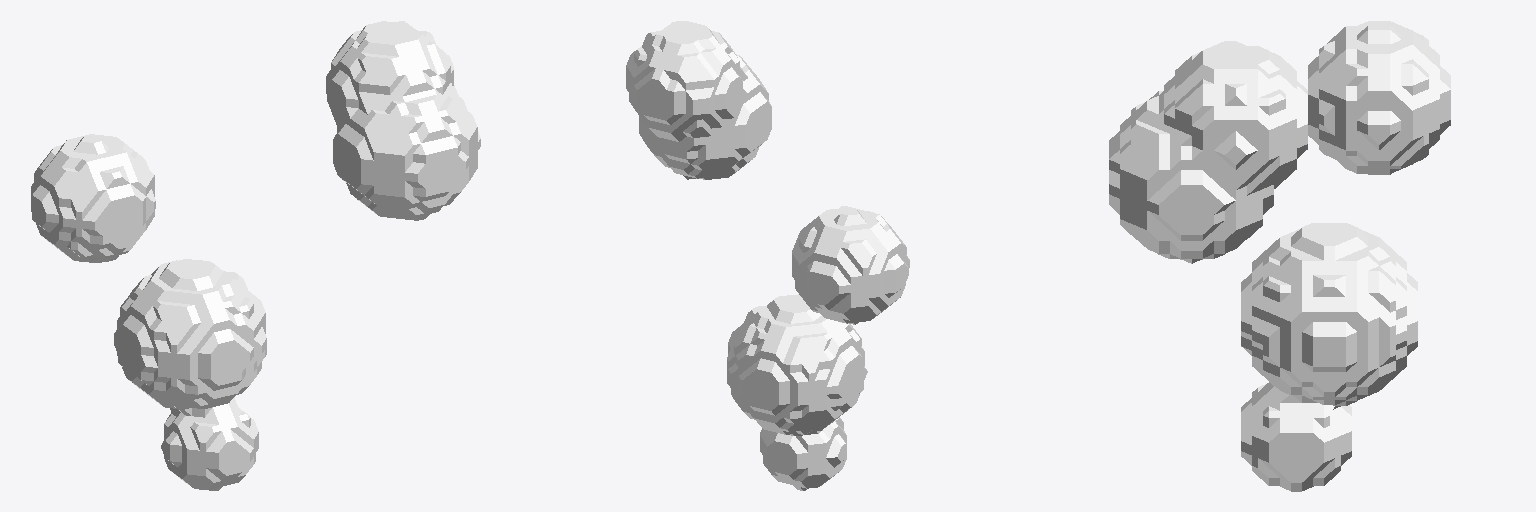
URDF robot description (floating_spheres_1):
<robot name="floating_spheres_1">
	<link name="_name">
		<visual>
			<origin xyz="0 0 0" rpy="0 0 0" />
			<geometry>
				<mesh filename="floating_spheres_1/floating_spheres_1.obj" scale="1.0 1.0 1.0" />
			</geometry>
			<material name="texture">
				<color rgba="1.0 1.0 1.0 1.0" />
			</material>
		</visual>
		<collision>
			<geometry>
				<mesh filename="floating_spheres_1/floating_spheres_1_vhacd.obj" scale="1.0 1.0 1.0" />
			</geometry>
		</collision>
		<inertial>
			<mass value="1.0" />
			<inertia ixx="1.0" ixy="0.0" ixz="0.0" iyy="1.0" iyz="0.0" izz="1.0" />
		</inertial>
	</link>
</robot>

--- What the picture shows (computed from the rendered views, not written in the file) ---
3 views of the same robot in one strip: view 1: azimuth 30°, elevation 25°; view 2: azimuth 150°, elevation 25°; view 3: azimuth 270°, elevation 25° (orthographic).
Robot: floating_spheres_1 — 1 links, 0 joints (none); root link _name; default pose: all joints at 0.
Visible links, largest first — view 1: _name; view 2: _name; view 3: _name.
Boxes of the visible links, x1,y1,x2,y2 form: _name: (31,21,480,490); _name: (626,21,909,490); _name: (1109,21,1450,491).
Size in the robot's own frame: 0.6984 by 0.4921 by 0.8254 metres.
1 mesh visuals loaded from 1 distinct referenced files (1 OBJ).